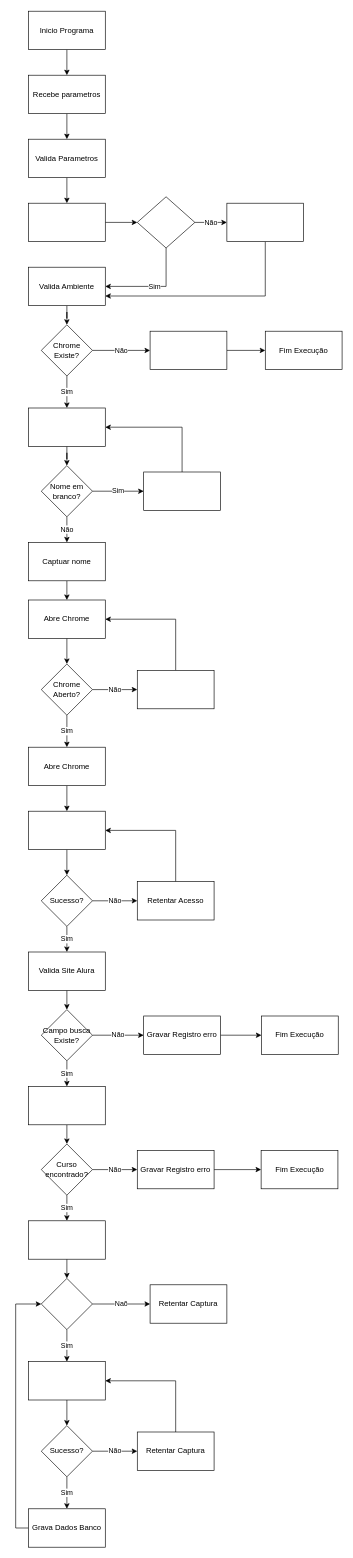
Image size: 353x1558. Some labels were removed from this diagram. Here are the shapes that lost their labels. From the top down, the centre of each, then its label:
At [66,222]: "Valida Pasta LOG".
At [166,222]: "Pasta Existe?".
At [265,222]: "Cria Pasta".
At [188,350]: "Informa exceção".
At [66,426]: "Recebe Nome Curso".
At [181,490]: "Retentar entrada".
At [175,689]: "Retentar abertura chrome".
At [66,830]: "Acessar Alura".
At [66,1105]: "Buscar curso".
At [66,1239]: "Captura quantidade de cusos".
At [66,1304]: "Existem cursos?".
At [66,1380]: "Armazena Dados Curso".
